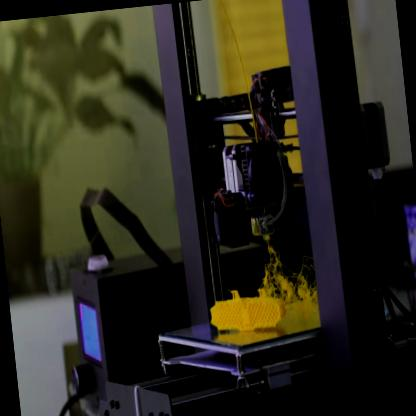fail: (265, 248, 314, 301)
